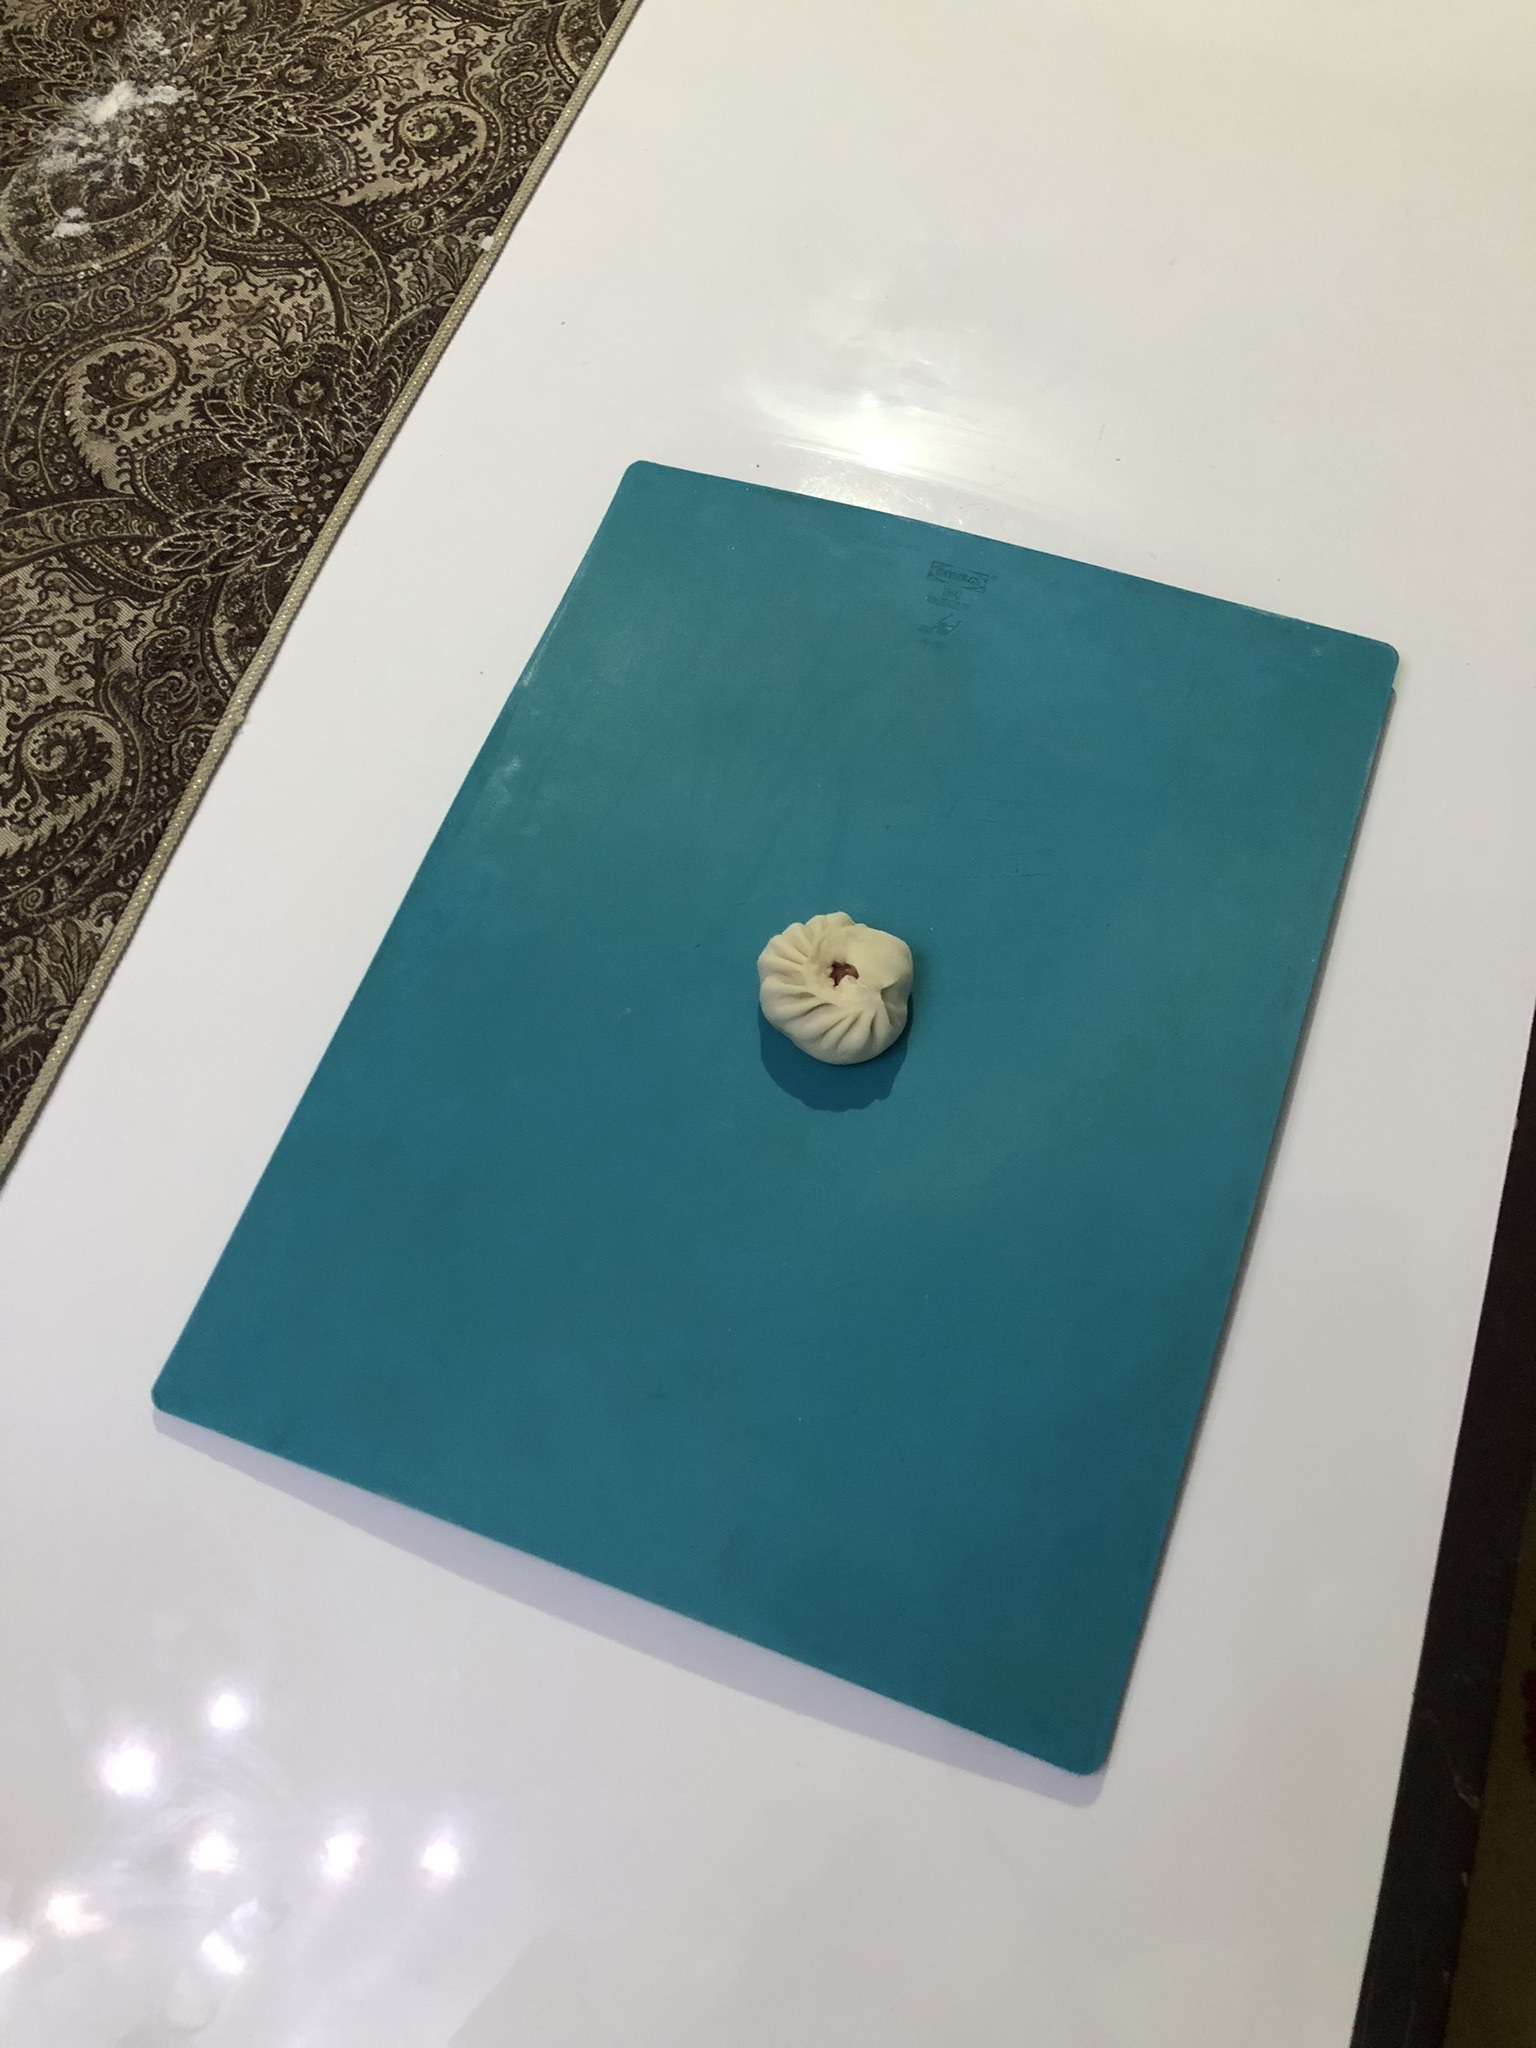buuz: (742, 903, 933, 1080)
